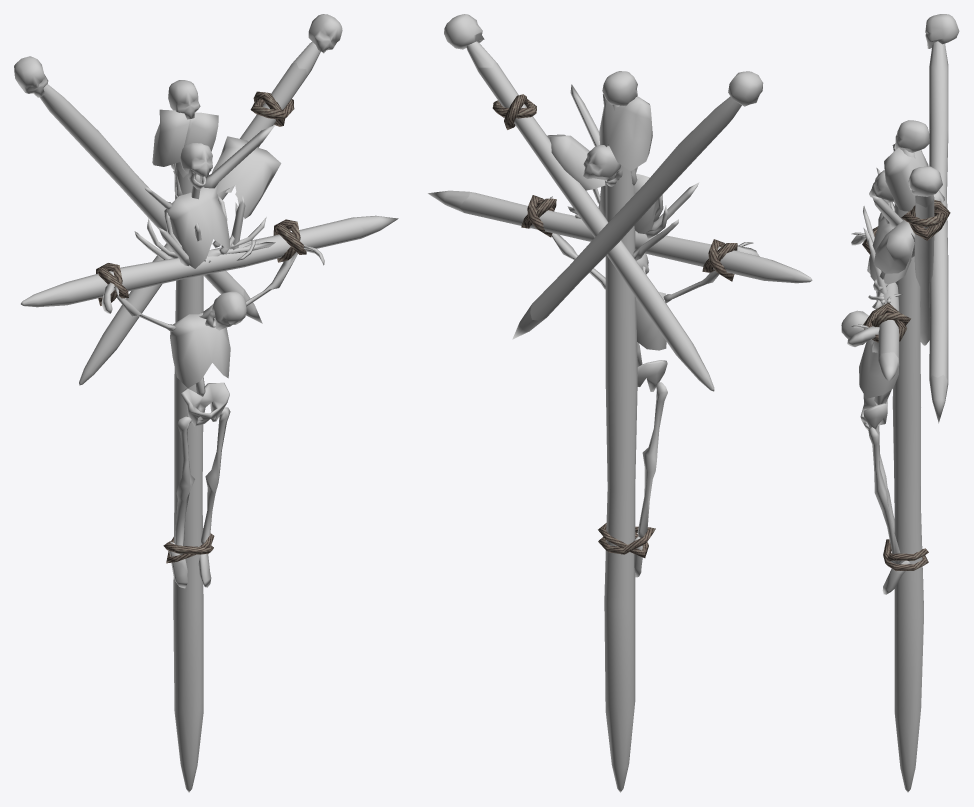
File: Wood_SpikeBone_A.FBX
3 renders of one model, left to right at view 1: azimuth 30°, elevation 25°; view 2: azimuth 150°, elevation 25°; view 3: azimuth 270°, elevation 25°, orthographic. The views are drawn at different scales.
Parts seen in each view (by area): view 1: Wood_SpikeBone_A; view 2: Wood_SpikeBone_A; view 3: Wood_SpikeBone_A.
Part boxes in pixels (box(x1,y1,x2,y2)): Wood_SpikeBone_A: box(14, 14, 398, 792); Wood_SpikeBone_A: box(428, 14, 812, 792); Wood_SpikeBone_A: box(841, 14, 959, 792).
Size of the model in its own units: 255 by 487 by 73.1.
